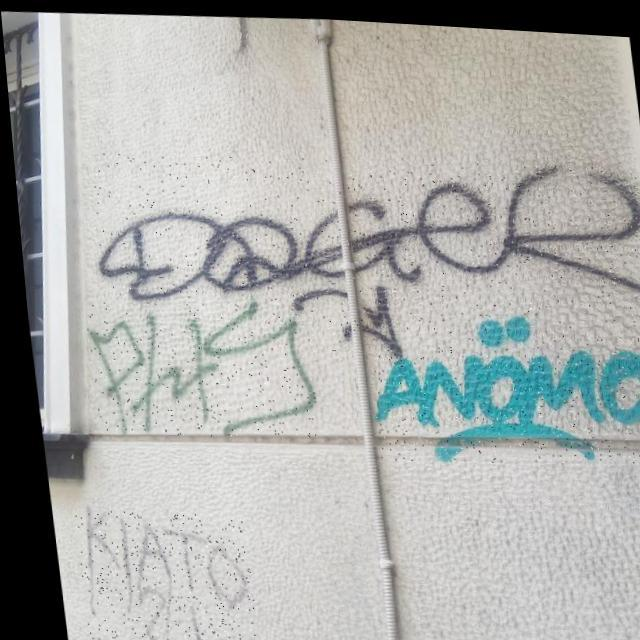-: (80, 132, 640, 372), (357, 300, 640, 469), (77, 288, 316, 442), (63, 503, 248, 640)
